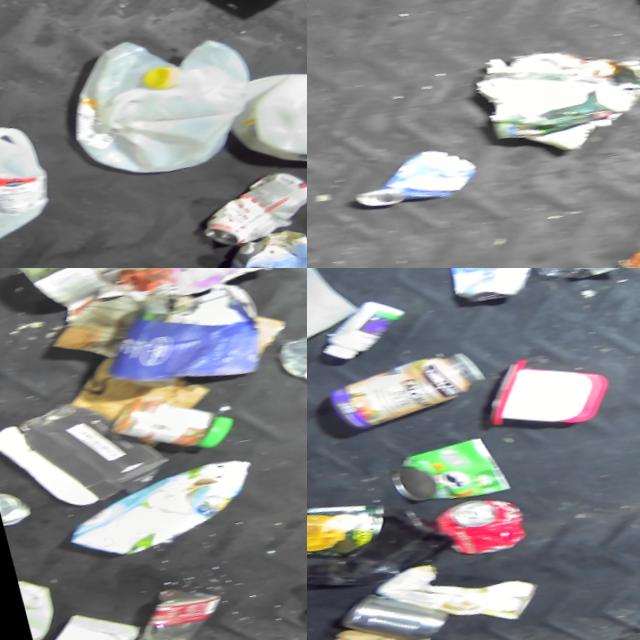can: (380, 425, 506, 509), (425, 483, 537, 564), (437, 268, 540, 308), (117, 624, 214, 640)
milk_jug: (51, 4, 275, 189), (219, 45, 307, 171), (0, 90, 56, 268), (307, 268, 377, 375)
plastic_bottle: (129, 577, 232, 640)
